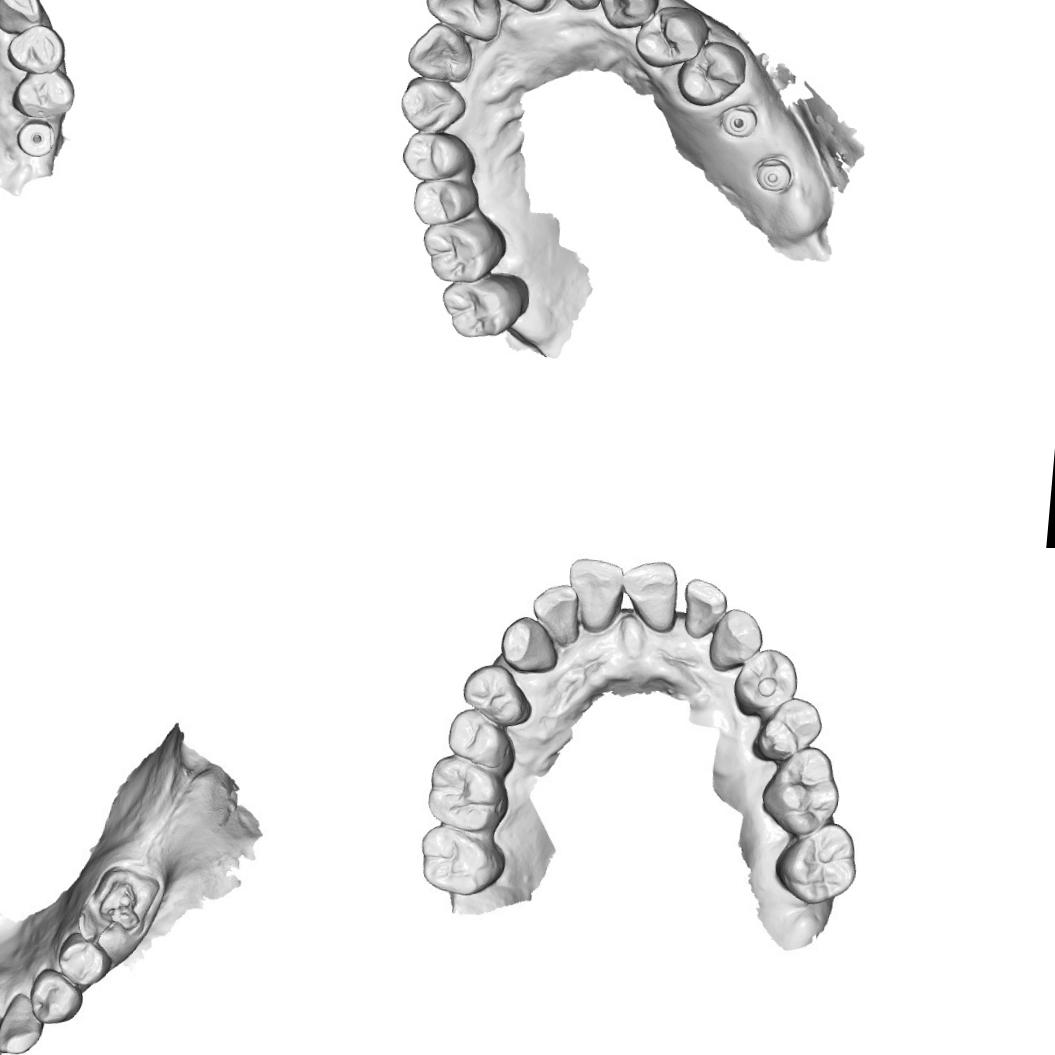canine: (705, 601, 767, 674), (396, 74, 469, 134), (496, 613, 561, 675), (0, 988, 44, 1055), (599, 0, 657, 31), (0, 0, 46, 37)
implant: (748, 150, 798, 202), (15, 117, 59, 159), (719, 99, 752, 137)
incisor: (562, 550, 629, 637), (614, 554, 682, 636), (402, 18, 476, 81), (526, 581, 584, 649), (679, 575, 730, 641), (421, 0, 501, 42)
molar: (770, 816, 861, 908), (756, 742, 842, 836), (414, 820, 499, 902), (424, 754, 510, 835), (437, 268, 527, 343), (416, 215, 496, 287)
premolar: (749, 690, 826, 766), (631, 0, 710, 72), (730, 641, 801, 719), (454, 661, 534, 728), (442, 706, 520, 772), (676, 38, 748, 109), (6, 65, 76, 121), (409, 177, 481, 230), (27, 966, 85, 1028), (3, 20, 68, 75), (54, 929, 114, 988), (404, 132, 463, 179)
